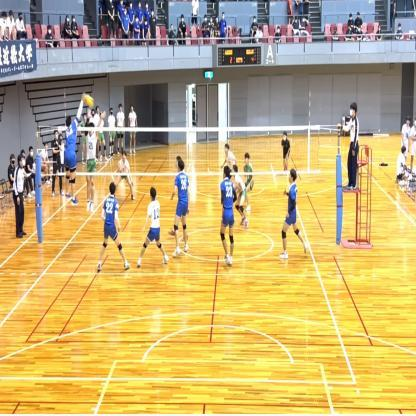spike: (62, 93, 94, 209)
